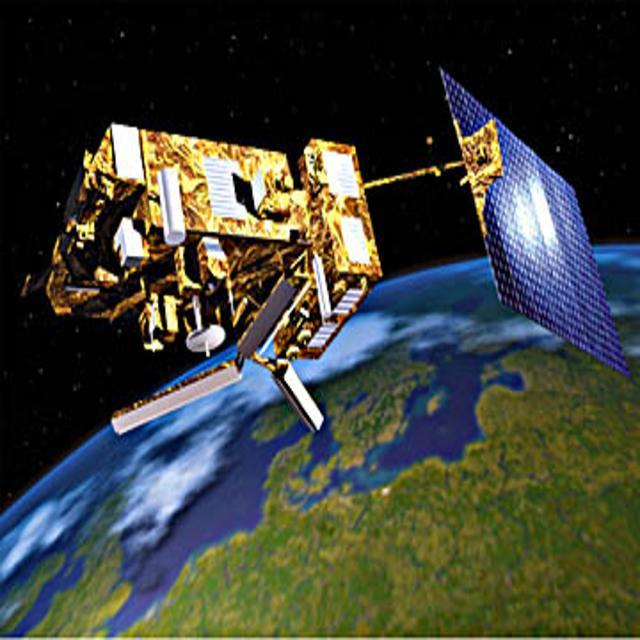sat: (42, 67, 628, 429)
